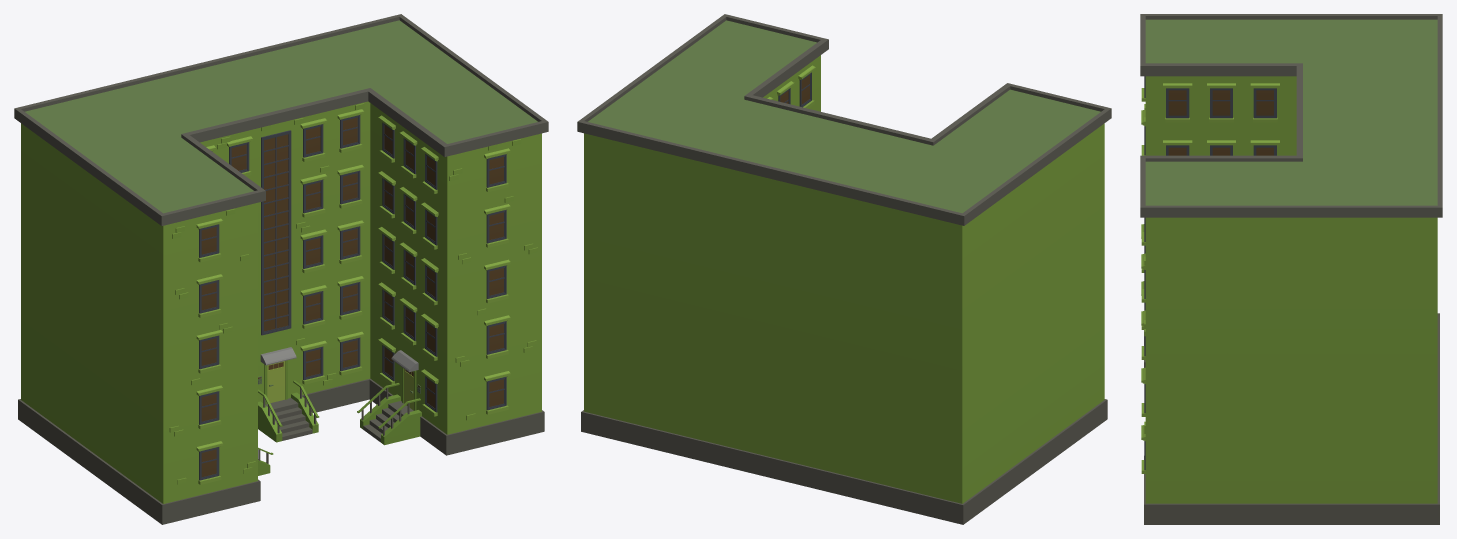
File: House_31.fbx
The picture shows the model from 3 angles, left to right: view 1: azimuth 30°, elevation 25°; view 2: azimuth 150°, elevation 25°; view 3: azimuth 270°, elevation 25°; orthographic projection. The views are drawn at different scales.
Parts seen in each view (by area): view 1: House_31; view 2: House_31; view 3: House_31.
Part boxes in pixels (x1,y1,x2,y2): House_31: (14,14,548,524); House_31: (577,14,1111,524); House_31: (1140,14,1442,524).
Size of the model in its own units: 20.44 by 15.68 by 13.49.
